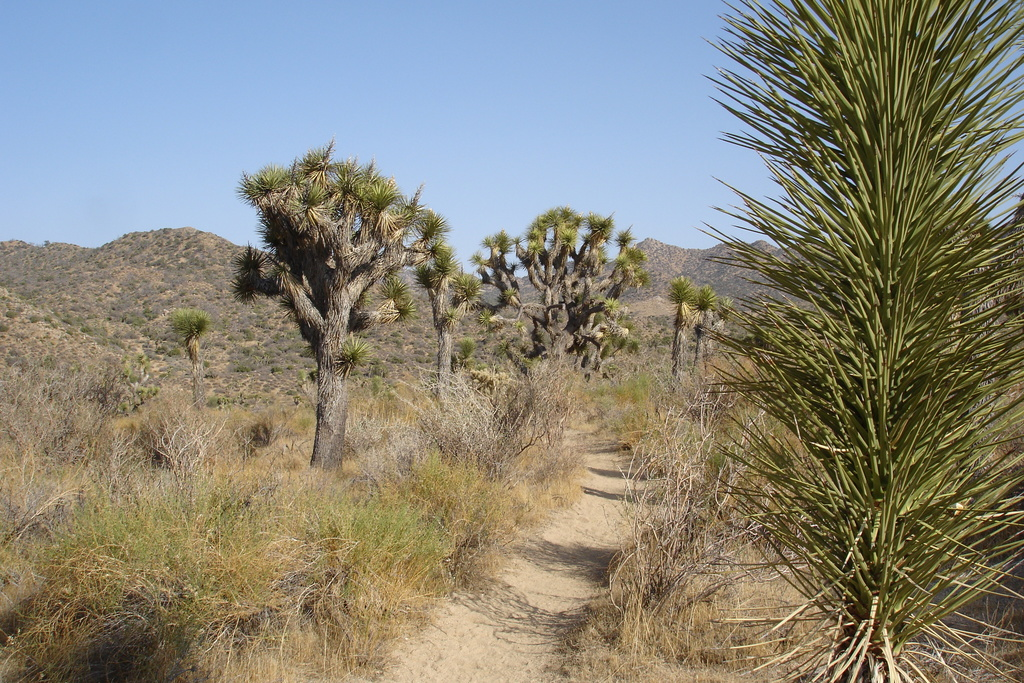Tree: (163, 0, 1024, 681)
